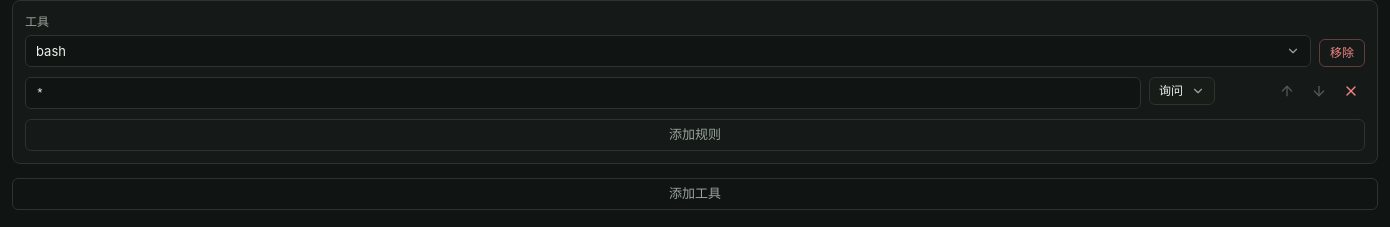
Scenario: PermissionEditor UI › removes an entire tool group
This screenshot has width=1390, height=227.
Click the button with aria-label "移除工具 bash": [1342, 53] box [1319,39,1365,67]
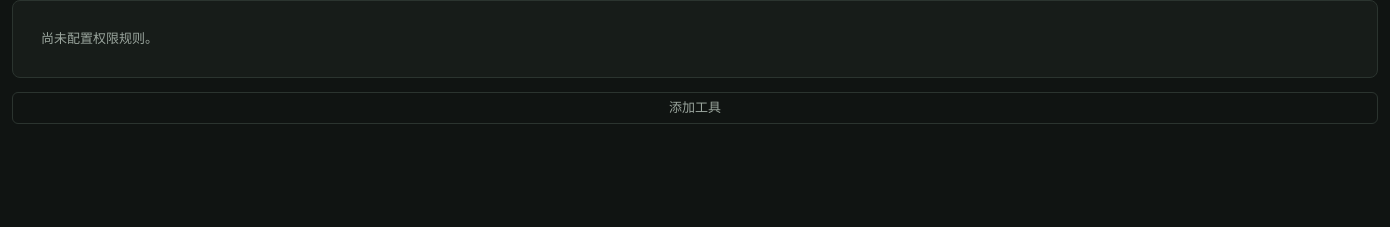
Expected: the text "尚未配置权限规则。" is shown, [12,0,1378,78]
